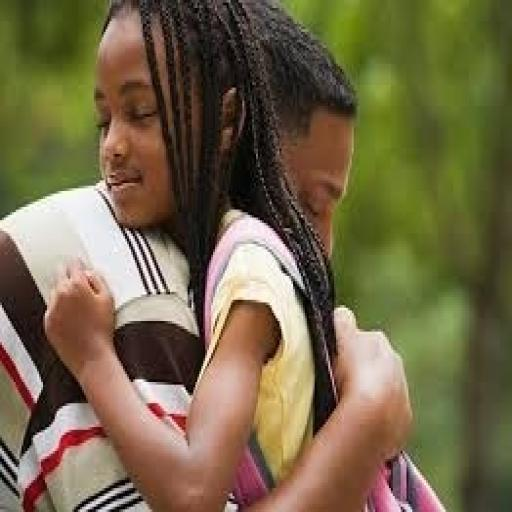hugging: (0, 0, 463, 509)
